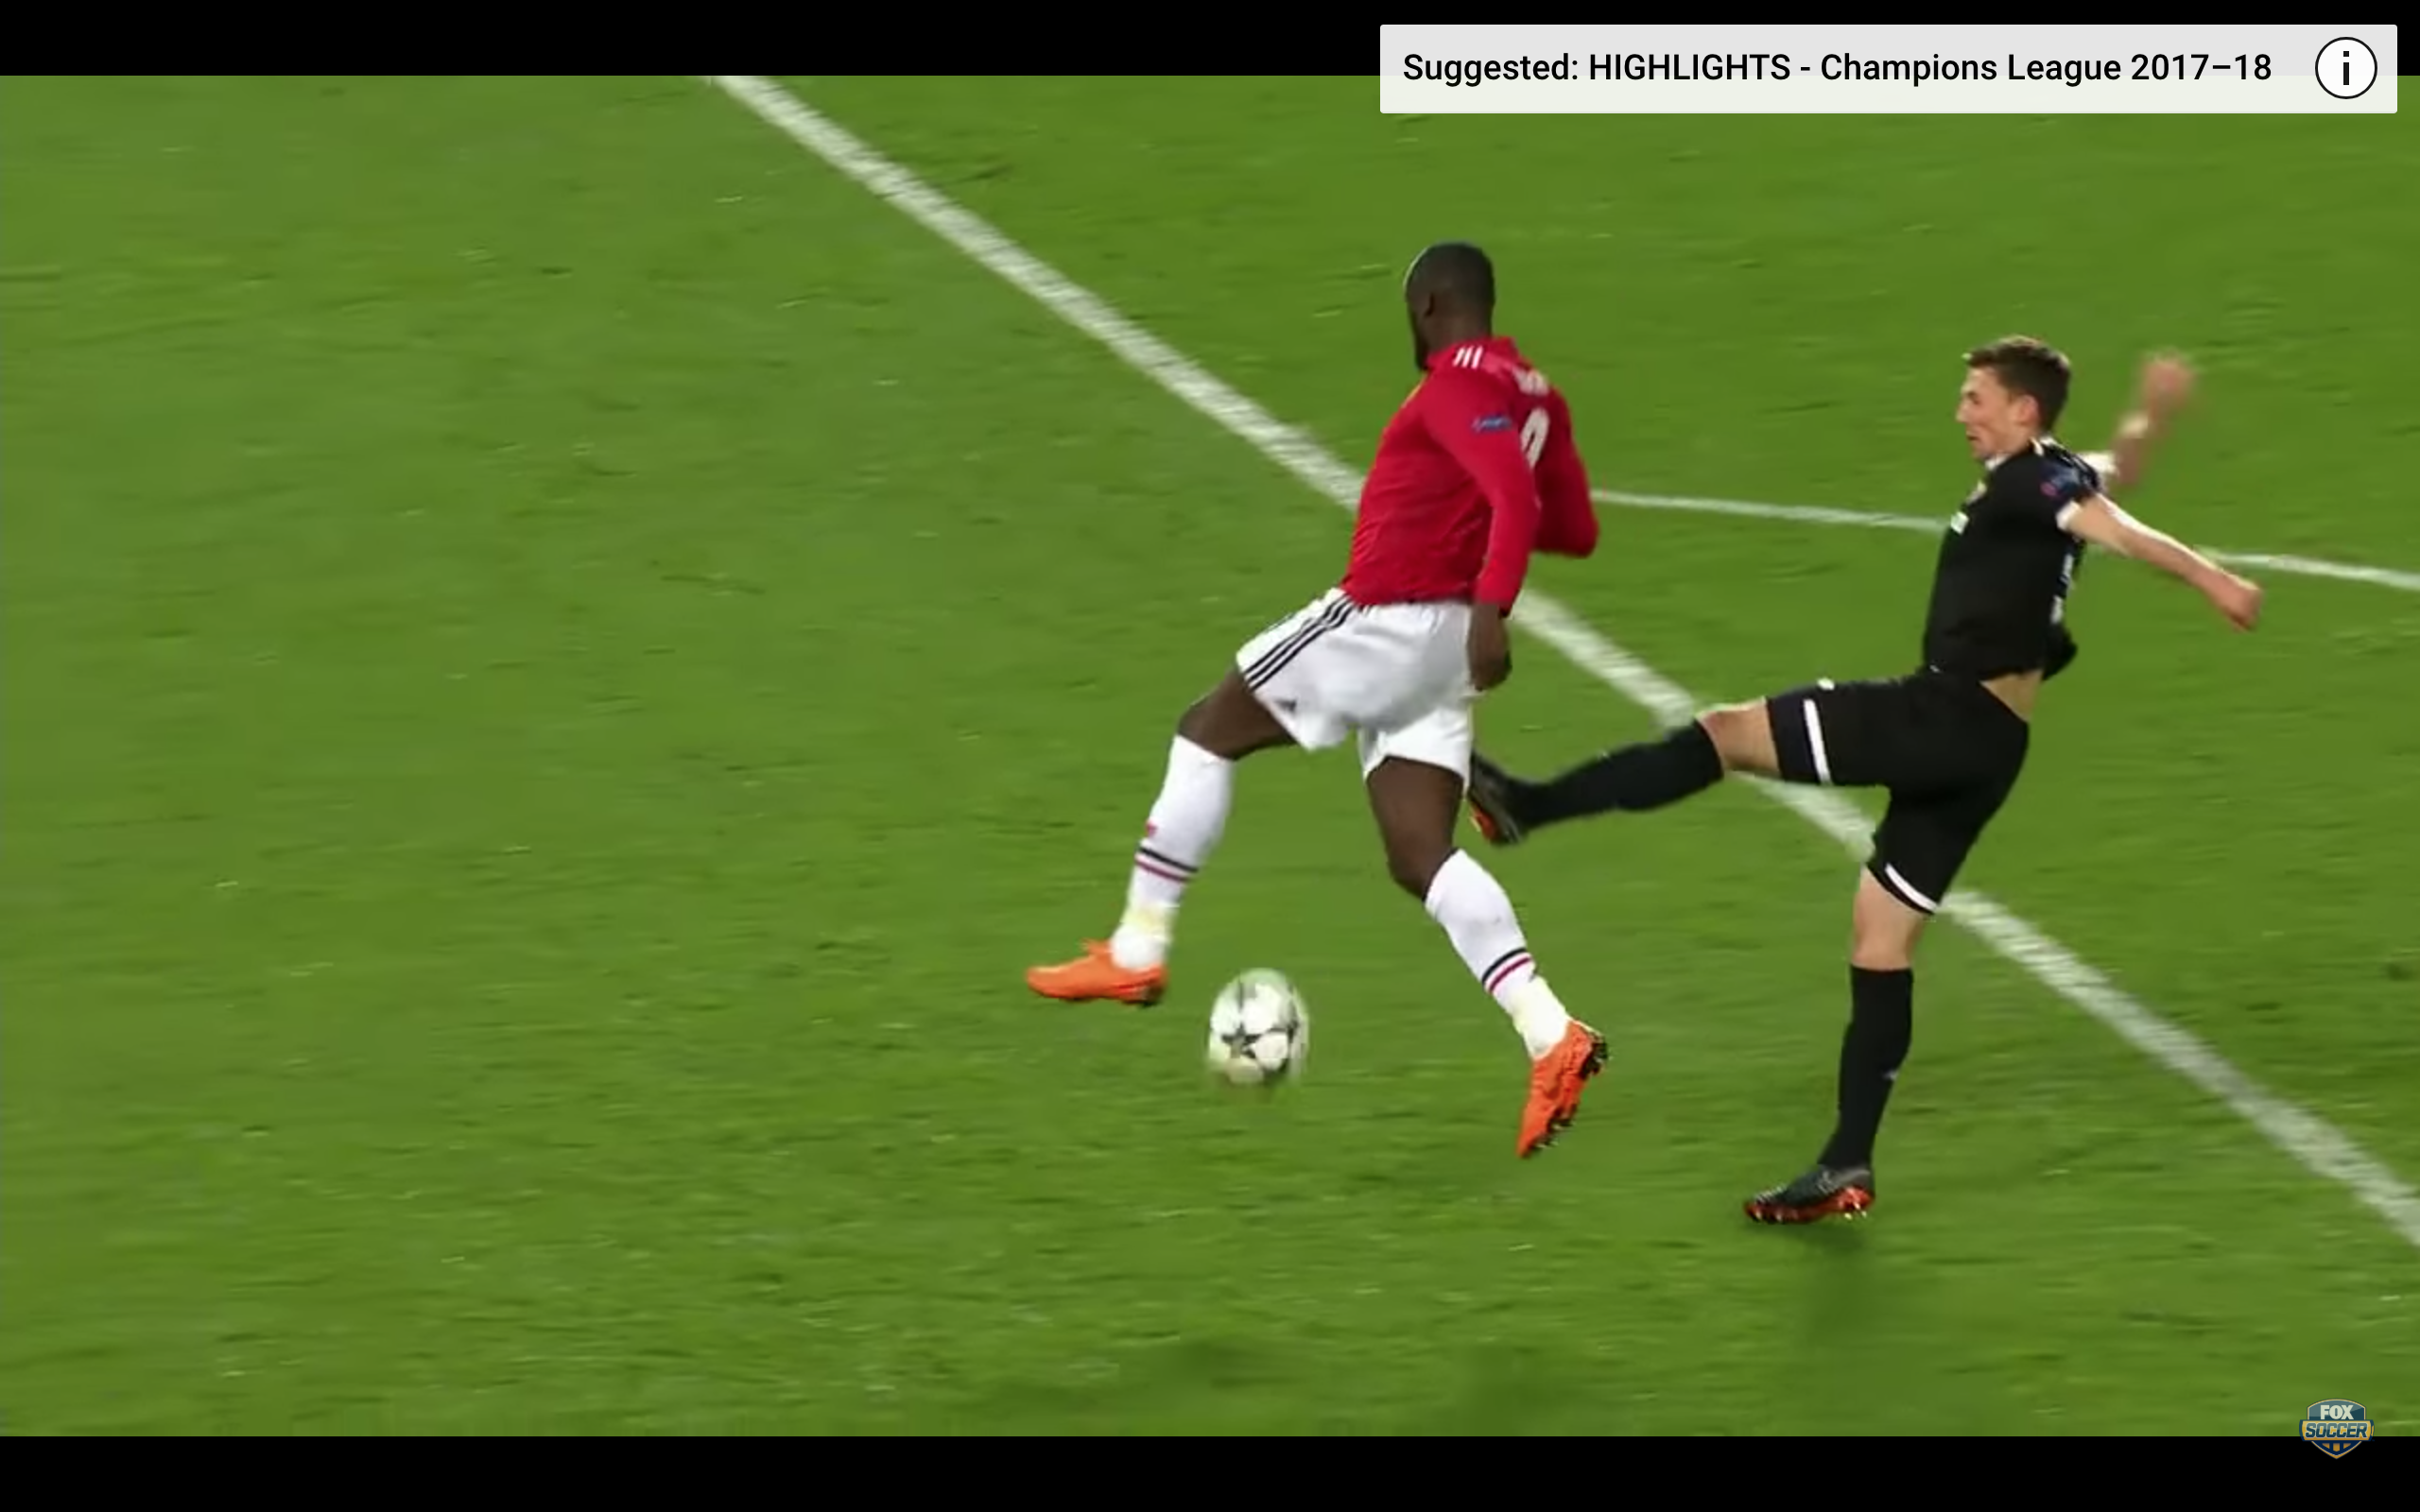soccer ball: (1194, 959, 1325, 1099)
soccer player: (1473, 335, 2275, 1237), (1022, 233, 1610, 1164)
